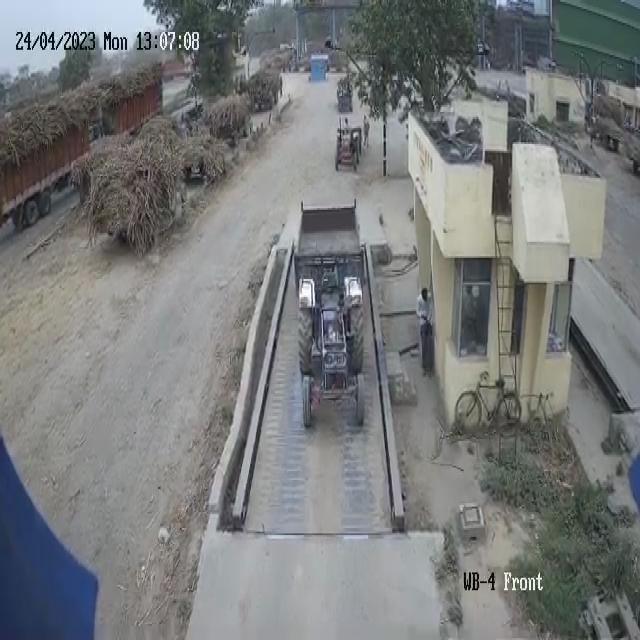Tratores - v5 YOLO V8L 2024-11-13: (288, 270, 372, 437), (333, 116, 362, 172)
